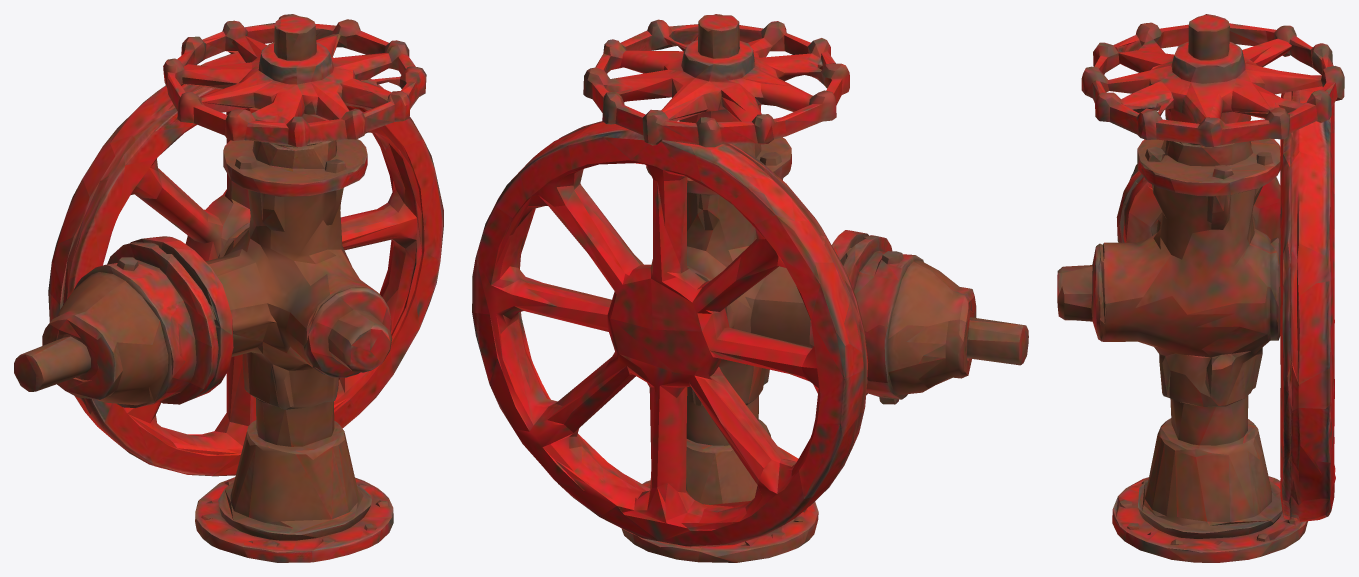
File: valve.glb
The picture shows the model from 3 angles, left to right: view 1: azimuth 30°, elevation 25°; view 2: azimuth 150°, elevation 25°; view 3: azimuth 270°, elevation 25°; orthographic projection.
Bounding box in the file's own units: 1.9 × 1.89 × 0.9856.
1 material, 1 textured.
